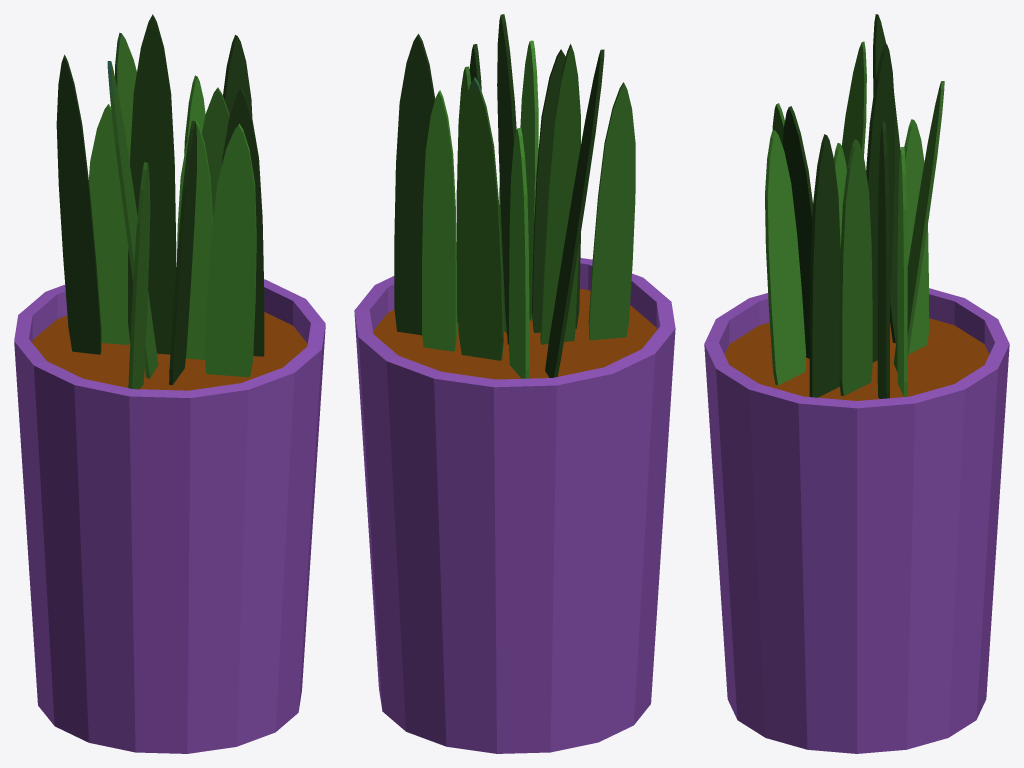
The model's file is Prop_Homeplant_03.fbx.
3 views of the same model, side by side, from view 1: azimuth 30°, elevation 25°; view 2: azimuth 150°, elevation 25°; view 3: azimuth 270°, elevation 25° (orthographic). The views are drawn at different scales.
Visible parts, largest first — view 1: Prop_Homeplant_03; view 2: Prop_Homeplant_03; view 3: Prop_Homeplant_03.
Part boxes in pixels (x1=…): Prop_Homeplant_03: x1=14, y1=14, x2=325, y2=753; Prop_Homeplant_03: x1=354, y1=14, x2=675, y2=753; Prop_Homeplant_03: x1=704, y1=14, x2=1009, y2=753.
Size of the model in its own units: 20.93 by 49.47 by 20.93.
